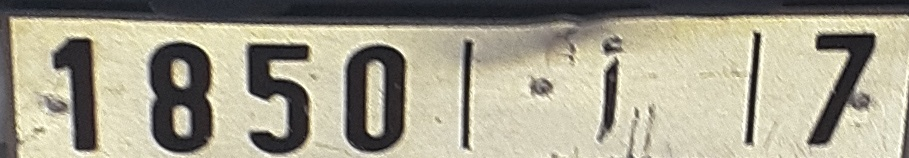0: (339, 42, 411, 155)
1: (47, 31, 103, 153)
5: (242, 40, 313, 155)
7: (802, 29, 881, 149)
8: (146, 38, 219, 156)
a: (591, 36, 630, 147)
